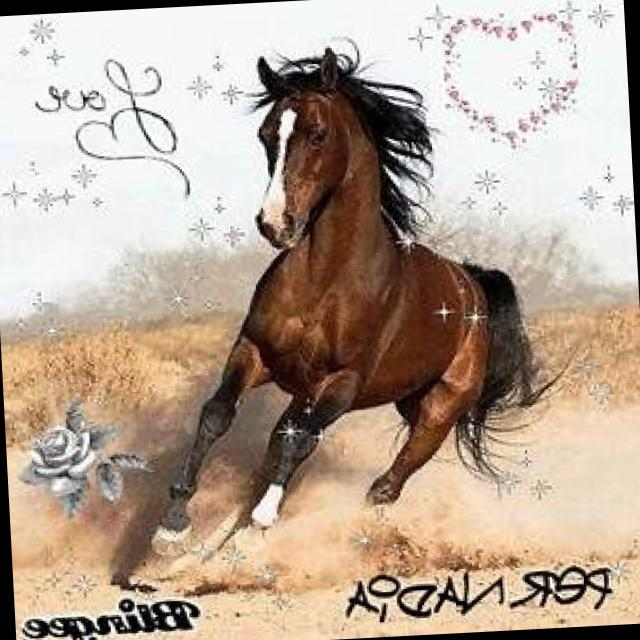horse: (124, 23, 586, 572)
